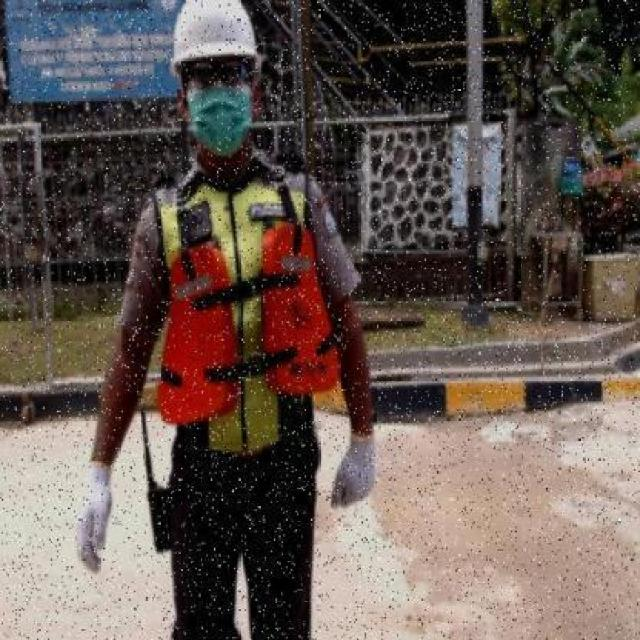Gloves: (63, 457, 123, 581), (327, 427, 384, 515)
Helmet: (164, 0, 262, 60)
Mask: (189, 89, 249, 154)
Protective Glasses: (185, 63, 253, 88)
Vest: (157, 219, 341, 421)
